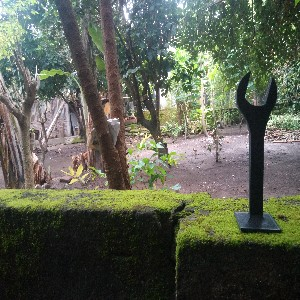spanner: (234, 70, 283, 233)
